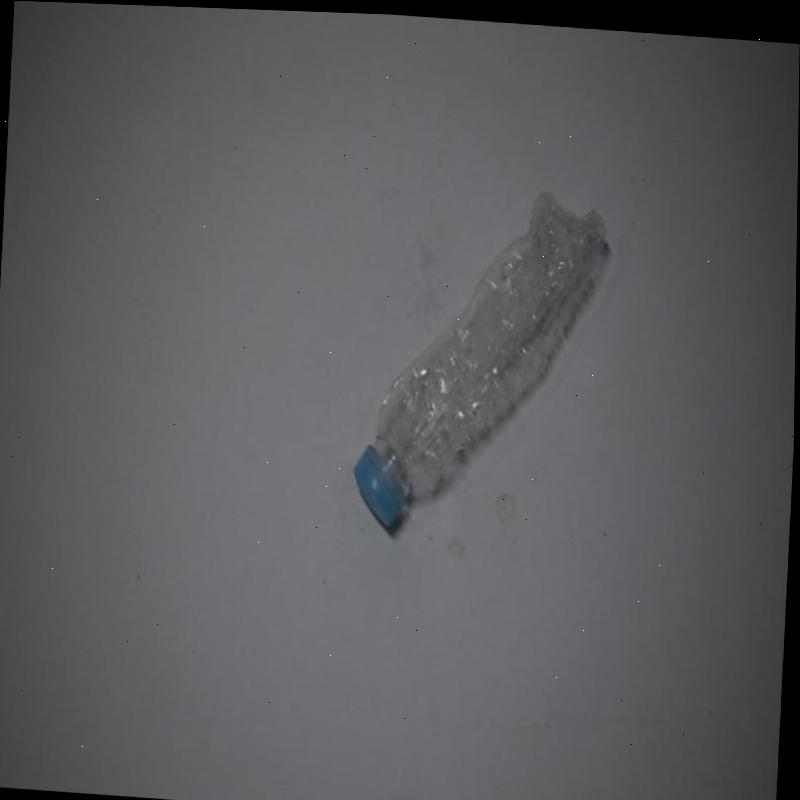botella: (348, 182, 612, 553)
